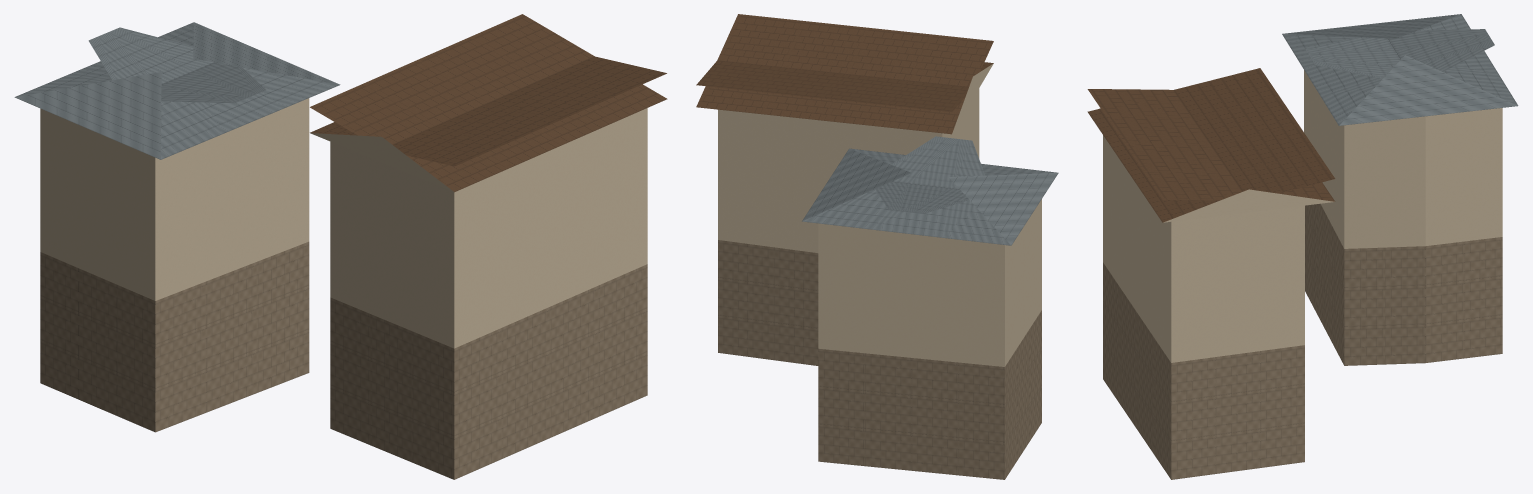
File: bld_c-15_-1_731.gltf
3 views of the same model, side by side, from view 1: azimuth 30°, elevation 25°; view 2: azimuth 150°, elevation 25°; view 3: azimuth 270°, elevation 25° (orthographic). The views are drawn at different scales.
Visible parts, largest first — view 1: bld_c-15_-1_731; view 2: bld_c-15_-1_731; view 3: bld_c-15_-1_731.
Boxes of the visible parts, x1,y1,x2,y2 form: bld_c-15_-1_731: [14, 14, 667, 479]; bld_c-15_-1_731: [696, 14, 1058, 479]; bld_c-15_-1_731: [1087, 14, 1518, 479].
Size of the model in its own units: 19.74 by 12.5 by 17.04.
5 materials, 5 textured.
